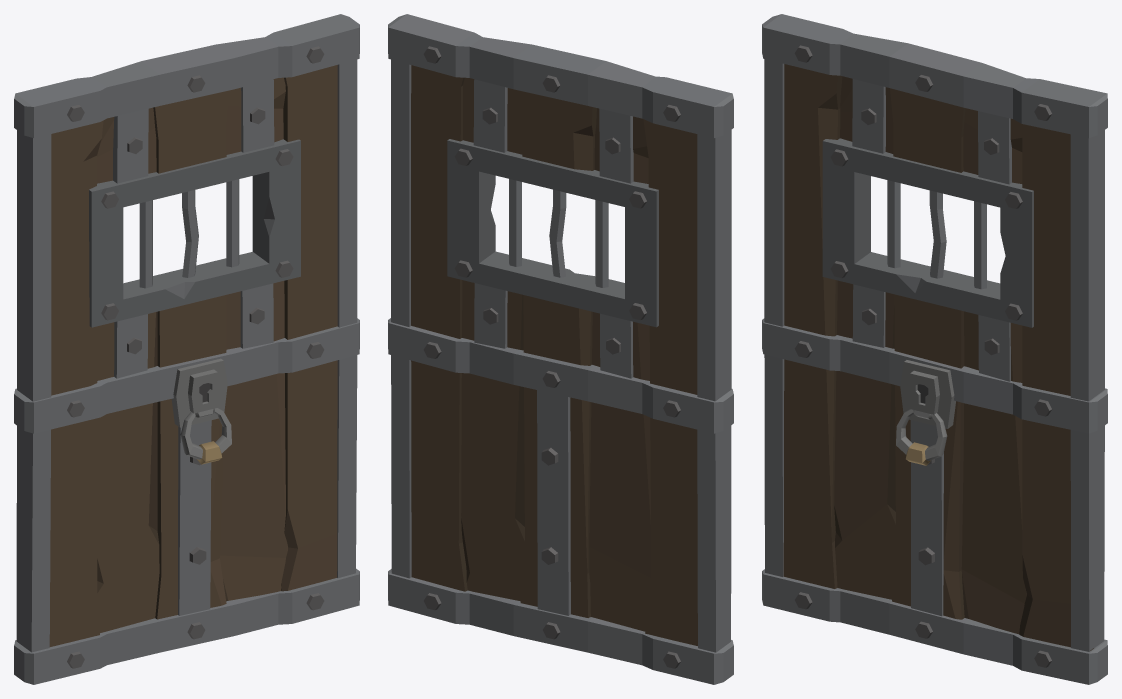
The model's file is SM_Env_Door_05.FBX.
3 renders of one model, left to right at view 1: azimuth 30°, elevation 25°; view 2: azimuth 150°, elevation 25°; view 3: azimuth 330°, elevation 25°, orthographic.
Parts seen in each view (by area): view 1: SM_Env_Door_05; view 2: SM_Env_Door_05; view 3: SM_Env_Door_05.
Boxes of the visible parts, x1,y1,x2,y2 form: SM_Env_Door_05: (14,14,359,684); SM_Env_Door_05: (388,14,733,684); SM_Env_Door_05: (762,14,1107,684).
Size of what is drawn, in the model's own units: 132 by 24.13 by 218.
